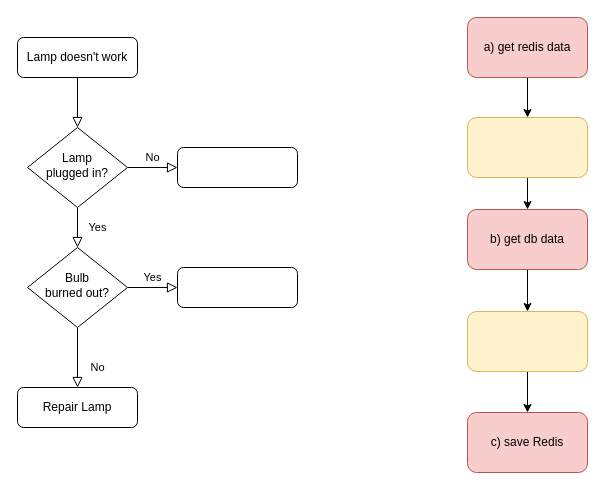
This 605x490 diagram has some shape labels left out. Here are the shapes that lost their labels. From the top down, the centre of each, then its label:
At (237,167): "Plug in lamp".
At (527,147): "1) delete redis key".
At (237,287): "Replace Bulb".
At (527,341): "2) update db".
